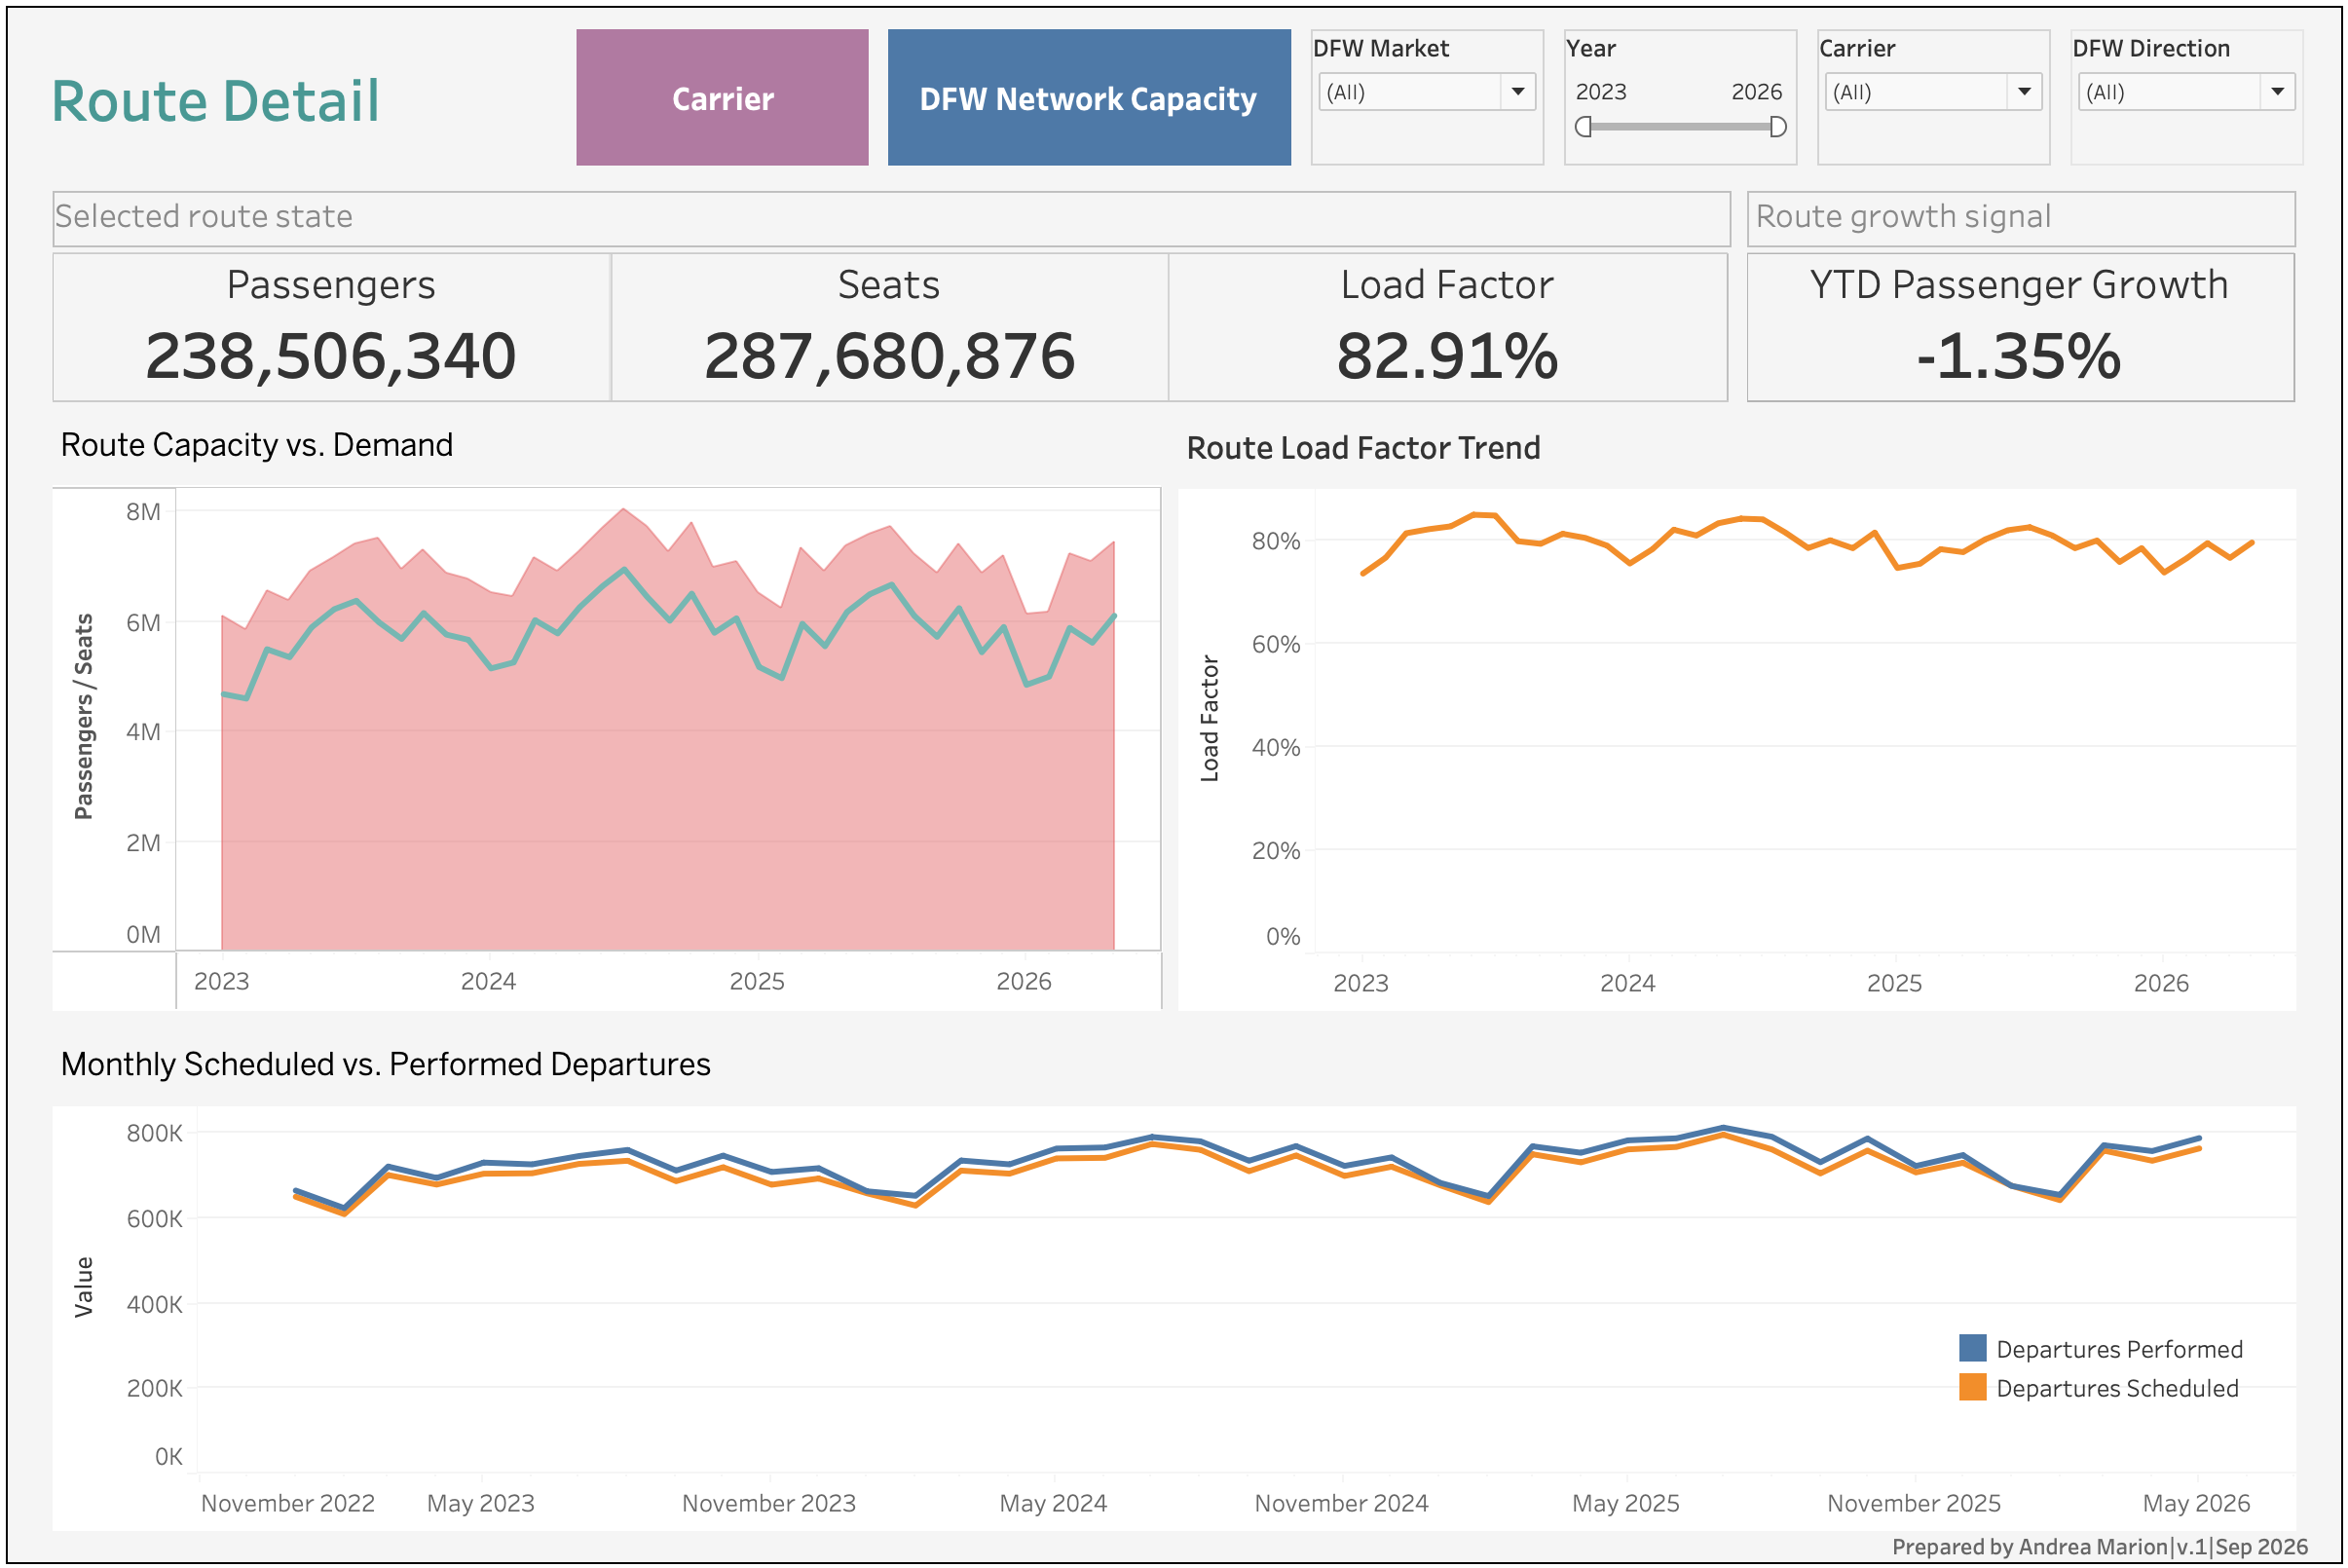

Layout of this report page (visuals, bound fields, positions):
{"tool":"tableau","page":{"name":"Route Detail","canvas":[1200,800],"ordinal":2},"visuals":[{"type":"title","box":[20,12,222,70]},{"type":"dashboard-object","box":[293,12,150,70]},{"type":"dashboard-object","box":[453,12,207,70]},{"type":"filter","title":"Route Capacity Demand","param":"[federated.0pz7fid0twx38u115uenj1vw47gd].[none:Calculation_4628301575823366:nk]","box":[670,12,120,70]},{"type":"filter","title":"Route-level KPIs","param":"[federated.0pz7fid0twx38u115uenj1vw47gd].[none:year:qk]","box":[800,12,120,70]},{"type":"filter","title":"Route Capacity Demand","param":"[federated.0pz7fid0twx38u115uenj1vw47gd].[none:unique_carrier_name:nk]","box":[930,12,120,70]},{"type":"filter","title":"Route Capacity Demand","param":"[federated.0pz7fid0twx38u115uenj1vw47gd].[none:Calculation_4628301569839109:nk]","box":[1060,12,120,70]},{"type":"worksheet","title":"Route-level KPIs","mark":"Text","box":[20,91,869.7,117]},{"type":"worksheet","title":"Route-level Growth KPI","mark":"Text","box":[889.8,91,290.2,117]},{"type":"worksheet","title":"Route Capacity Demand","mark":"Area","rows":["seats","passengers"],"cols":["service_month"],"box":[20,207,577.5,313]},{"type":"worksheet","title":"Route Load Factor Trend","mark":"Line","rows":["Calculation_4628301567057920"],"cols":["service_month"],"box":[597.5,207,582.5,313]},{"type":"worksheet","title":"Scheduled vs Performed Departures","mark":"Automatic","cols":["service_month"],"box":[20,525,1160,262]},{"type":"legend","title":"Scheduled vs Performed Departures","param":"[federated.0pz7fid0twx38u115uenj1vw47gd].[:Measure Names]","box":[1000,679,154,46]}]}

Visuals, with their boxes in screenshot pixels (x1, y1, x2, y2), scaled from the page's 1200x800 canvas onto the 2348x1568 screenshot:
title: x1=39, y1=23, x2=473, y2=161
dashboard-object: x1=574, y1=23, x2=867, y2=161
dashboard-object: x1=886, y1=23, x2=1291, y2=161
"Route Capacity Demand" filter: x1=1311, y1=23, x2=1546, y2=161
"Route-level KPIs" filter: x1=1565, y1=23, x2=1800, y2=161
"Route Capacity Demand" filter: x1=1820, y1=23, x2=2055, y2=161
"Route Capacity Demand" filter: x1=2074, y1=23, x2=2309, y2=161
"Route-level KPIs" worksheet (Text marks): x1=39, y1=178, x2=1741, y2=408
"Route-level Growth KPI" worksheet (Text marks): x1=1741, y1=178, x2=2309, y2=408
"Route Capacity Demand" worksheet (Area marks): x1=39, y1=406, x2=1169, y2=1019
"Route Load Factor Trend" worksheet (Line marks): x1=1169, y1=406, x2=2309, y2=1019
"Scheduled vs Performed Departures" worksheet: x1=39, y1=1029, x2=2309, y2=1543
"Scheduled vs Performed Departures" legend: x1=1957, y1=1330, x2=2258, y2=1421
